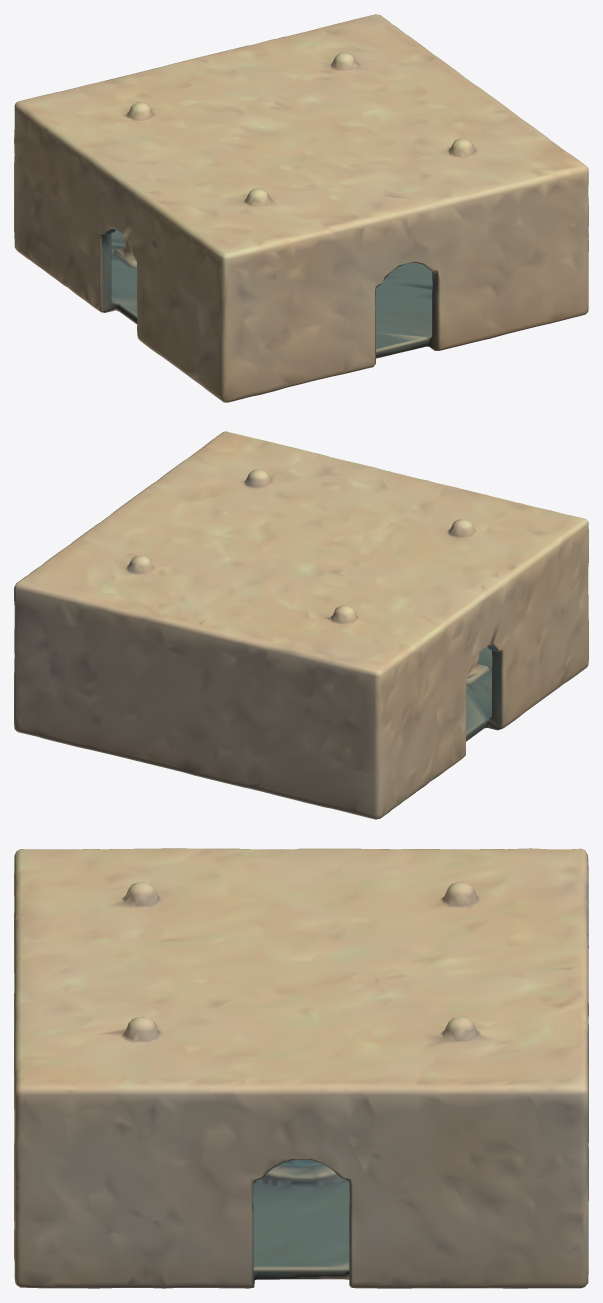
File: env_co_hall.glb
3 views of the same model, one above another, from view 1: azimuth 30°, elevation 25°; view 2: azimuth 150°, elevation 25°; view 3: azimuth 270°, elevation 25° (orthographic). The views are drawn at different scales.
Parts seen in each view (by area): view 1: geometry_0; view 2: geometry_0; view 3: geometry_0.
Boxes of the visible parts, left/top/right/bottom form: geometry_0: left=14, top=14, right=588, bottom=402; geometry_0: left=14, top=431, right=588, bottom=819; geometry_0: left=14, top=848, right=588, bottom=1288.
Bounding box in the file's own units: 18.03 × 7.59 × 18.03.
